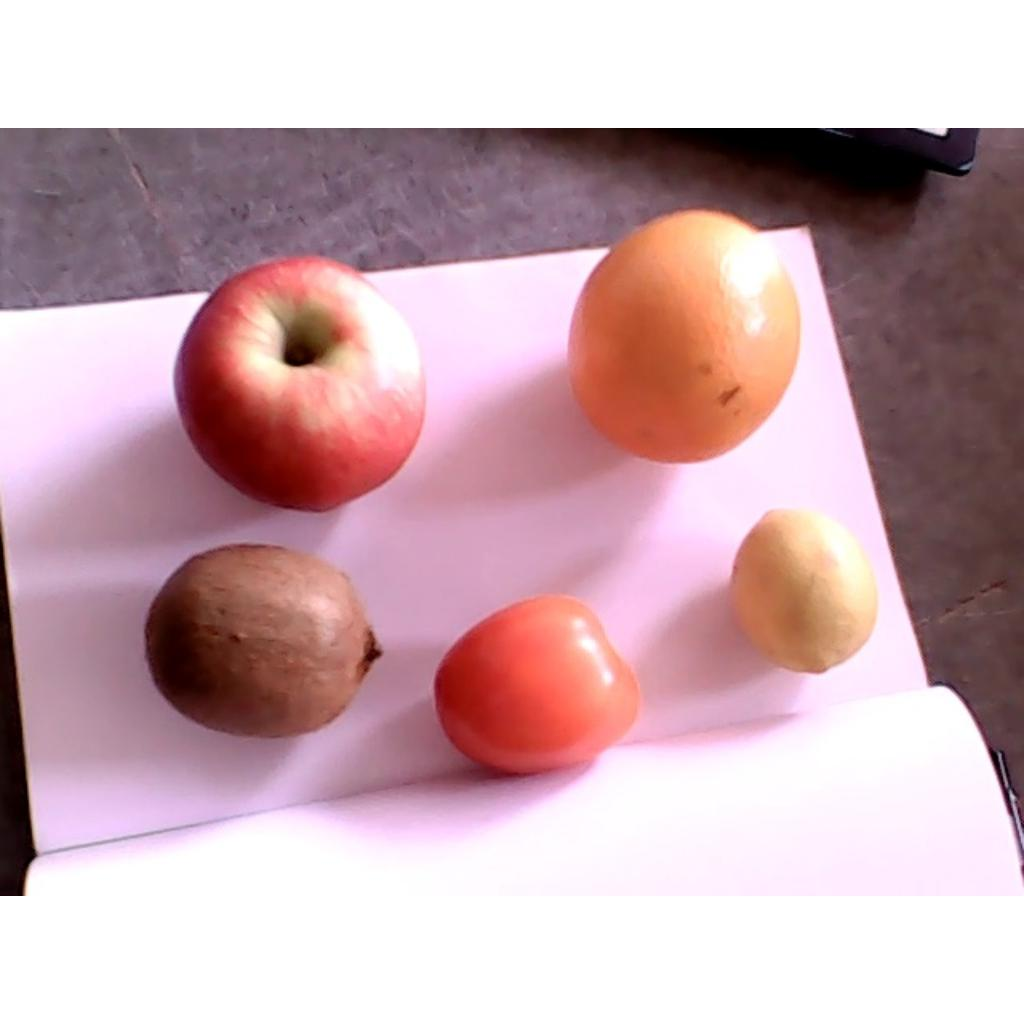apple: (174, 253, 426, 513)
kiwi: (144, 544, 385, 739)
lemon: (731, 509, 879, 674)
orange: (567, 210, 800, 461)
tomato: (433, 595, 640, 779)
